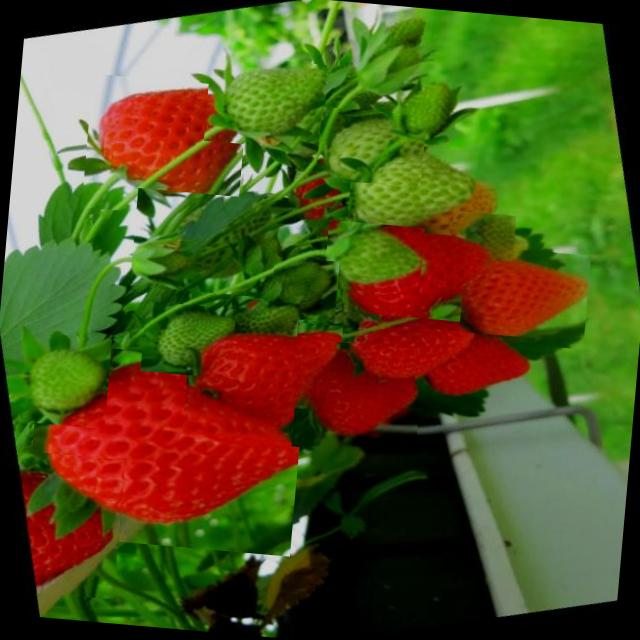ripe: (24, 342, 306, 556), (81, 73, 248, 220), (182, 313, 355, 447), (341, 195, 492, 322), (8, 450, 126, 599), (292, 338, 424, 456), (338, 288, 480, 397), (458, 244, 591, 349), (412, 328, 534, 408)
unripe: (130, 187, 280, 298), (346, 140, 478, 237), (204, 54, 329, 150), (11, 330, 112, 428), (316, 106, 426, 187), (140, 301, 242, 379), (323, 220, 424, 296), (247, 254, 339, 322), (348, 8, 433, 76), (384, 76, 463, 146), (449, 210, 516, 262), (232, 298, 300, 349)
